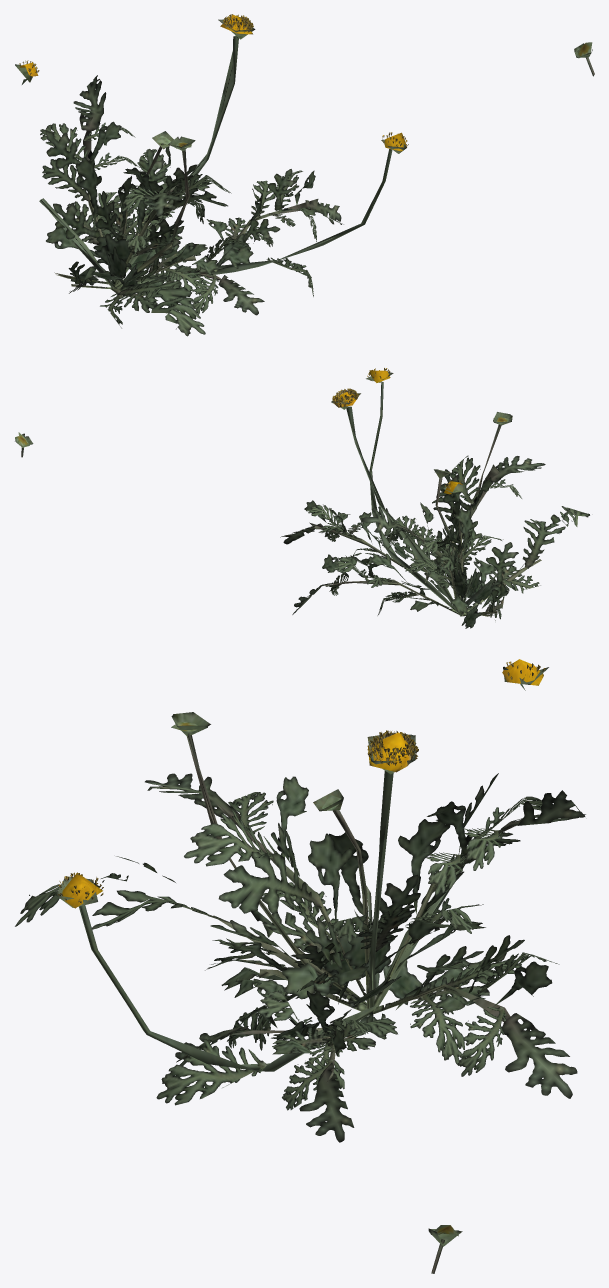
Rendered from flower_stinkkruid.glb.
3 views of the same model, one above another, from view 1: azimuth 30°, elevation 25°; view 2: azimuth 150°, elevation 25°; view 3: azimuth 270°, elevation 25° (orthographic). The views are drawn at different scales.
Parts seen in each view (by area): view 1: flower_stinkkruid; view 2: flower_stinkkruid; view 3: flower_stinkkruid.
Part boxes in pixels (box(x1,y1,x2,y2)): flower_stinkkruid: box(15, 14, 594, 336); flower_stinkkruid: box(15, 368, 589, 628); flower_stinkkruid: box(15, 659, 585, 1273).
Size of the model in its own units: 1.07 by 0.45 by 0.6157.
1 material, 1 textured.
